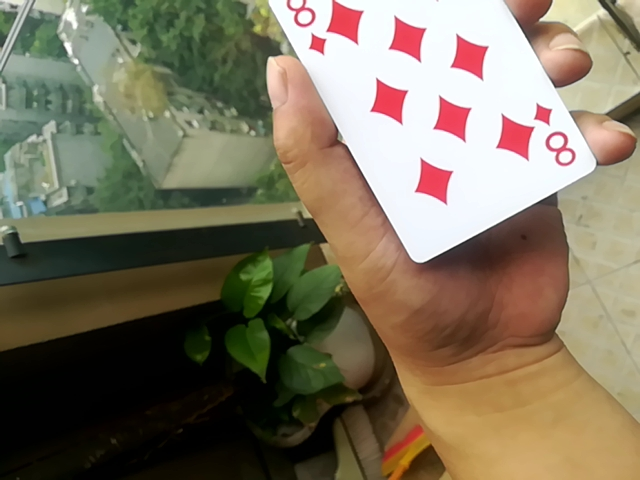fk 8: (259, 0, 592, 272)
